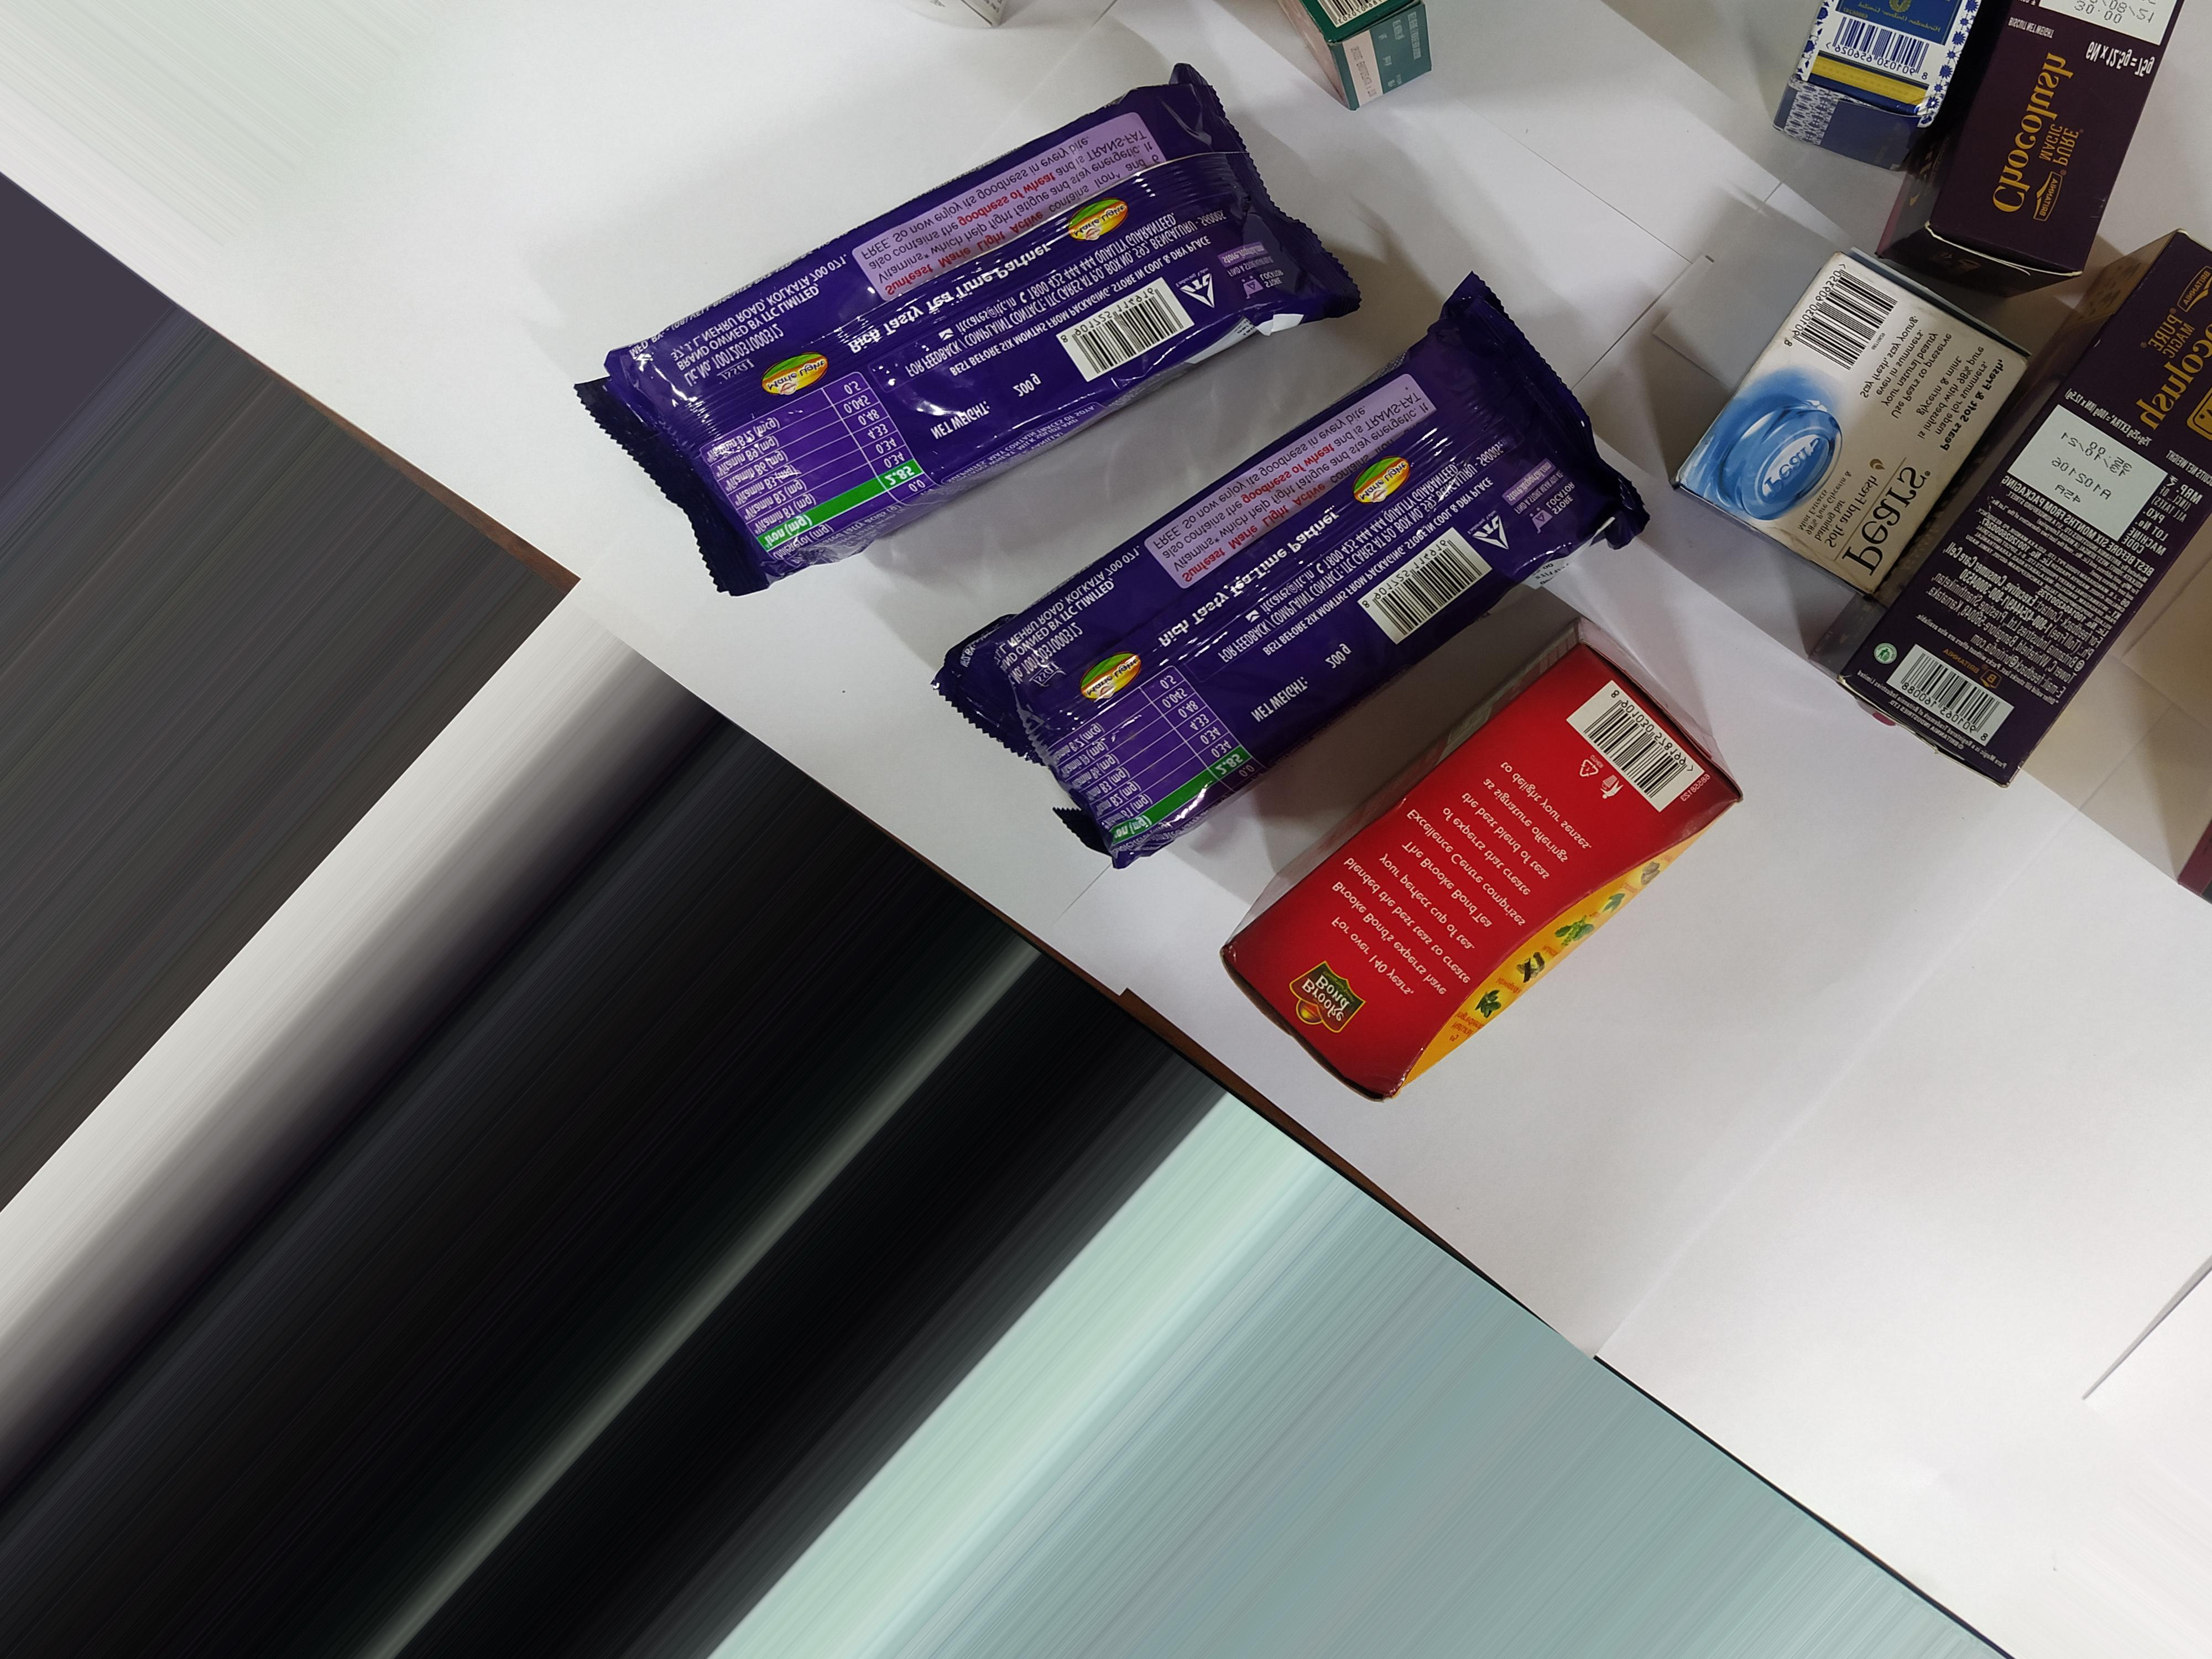Bar_code: (1559, 673, 1717, 838), (1867, 634, 2038, 762), (1345, 521, 1503, 653), (1054, 284, 1211, 397), (1789, 267, 1909, 376), (1810, 12, 1958, 99)
Item: (486, 68, 1345, 537), (1024, 399, 1695, 674), (1244, 735, 1752, 1082), (1843, 410, 2172, 810), (1689, 246, 2003, 605), (1893, 2, 2121, 307), (1346, 523, 1505, 655)
